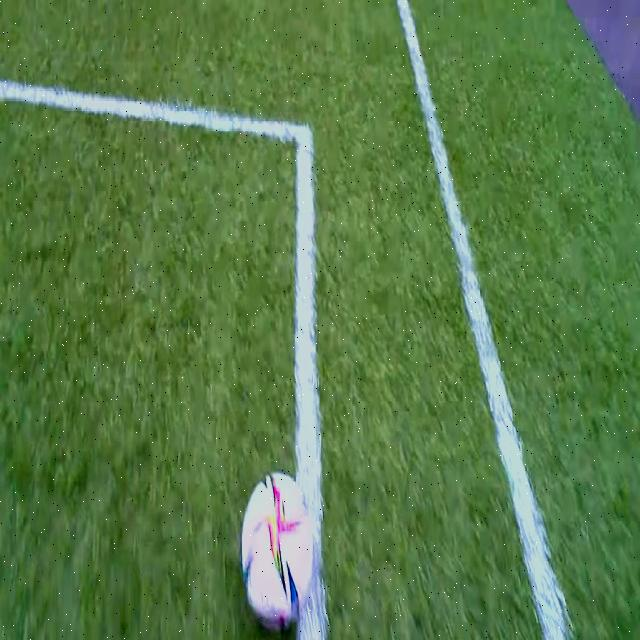ball: (241, 470, 313, 632)
